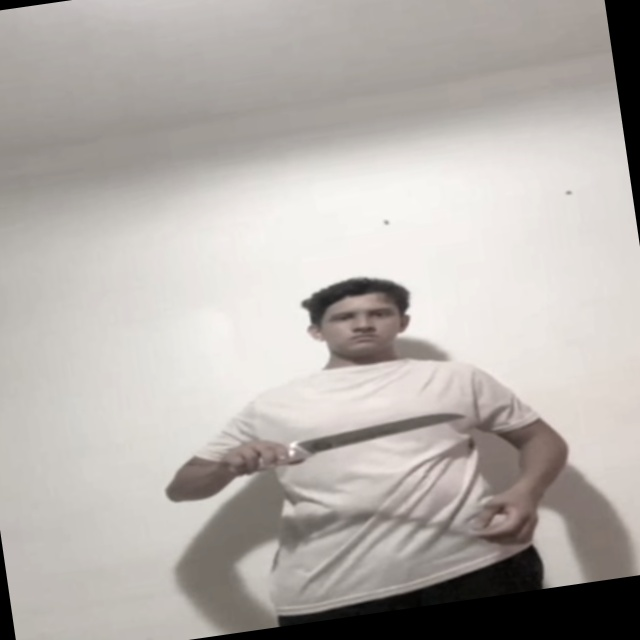Sharp-Object: (298, 407, 470, 456)
